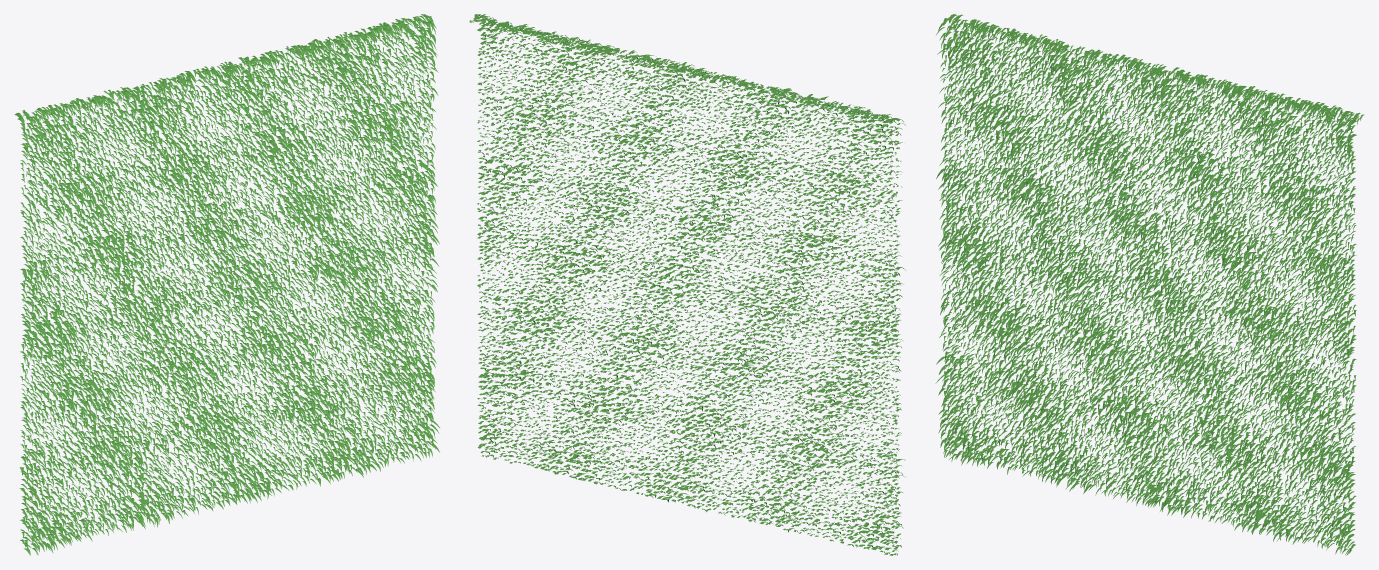
Rendered from pink_house_wall_grass_proof_v1.glb.
3 renders of one model, left to right at view 1: azimuth 30°, elevation 25°; view 2: azimuth 150°, elevation 25°; view 3: azimuth 330°, elevation 25°, orthographic. The views are drawn at different scales.
Parts seen in each view (by area): view 1: WallGrass_Q3, WallGrass_Q1, WallGrass_Q4, WallGrass_Q2, WallGrass_Lip; view 2: WallGrass_Q1, WallGrass_Q2, WallGrass_Q3, WallGrass_Q4, WallGrass_Lip; view 3: WallGrass_Q3, WallGrass_Q4, WallGrass_Q2, WallGrass_Q1, WallGrass_Lip.
Part boxes in pixels (bbox=[...]): WallGrass_Q3: bbox=[20, 73, 234, 341]; WallGrass_Q1: bbox=[19, 289, 233, 555]; WallGrass_Q4: bbox=[226, 21, 439, 293]; WallGrass_Q2: bbox=[225, 238, 440, 504]; WallGrass_Lip: bbox=[14, 14, 434, 126]; WallGrass_Q1: bbox=[687, 288, 905, 555]; WallGrass_Q2: bbox=[477, 236, 694, 503]; WallGrass_Q3: bbox=[687, 68, 905, 336]; WallGrass_Q4: bbox=[477, 14, 693, 286]; WallGrass_Lip: bbox=[469, 14, 898, 122]; WallGrass_Q3: bbox=[936, 23, 1149, 289]; WallGrass_Q4: bbox=[1143, 72, 1356, 344]; WallGrass_Q2: bbox=[1142, 288, 1356, 555]; WallGrass_Q1: bbox=[935, 239, 1150, 505]; WallGrass_Lip: bbox=[943, 14, 1363, 128].
Size of the model in its own units: 22.68 by 22.78 by 1.57.
